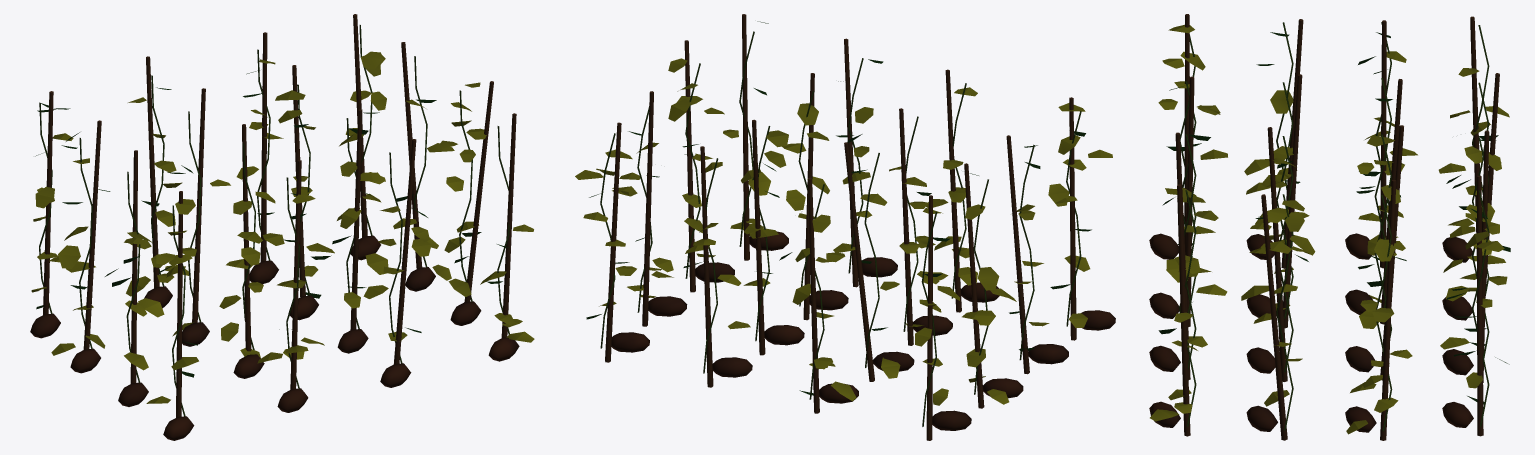
The model's file is fm_yam_3.glb.
3 renders of one model, left to right at view 1: azimuth 30°, elevation 25°; view 2: azimuth 150°, elevation 25°; view 3: azimuth 270°, elevation 25°, orthographic. The views are drawn at different scales.
Parts seen in each view (by area): view 1: fm_yam_3; view 2: fm_yam_3; view 3: fm_yam_3.
Boxes of the visible parts, <box> form: fm_yam_3: <box>30,14,534,440</box>; fm_yam_3: <box>575,14,1115,440</box>; fm_yam_3: <box>1149,14,1510,440</box>.
Size of the model in its own units: 3.68 by 2.1 by 2.83.
